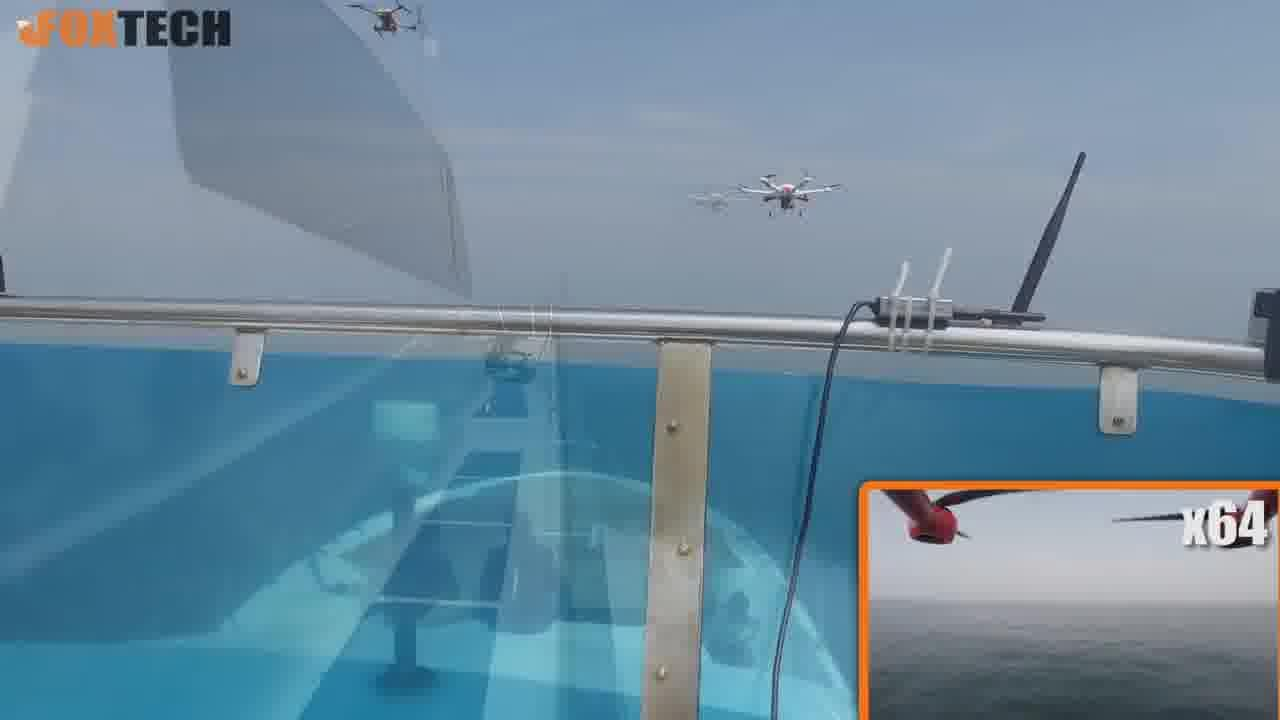drone: (717, 145, 857, 229)
